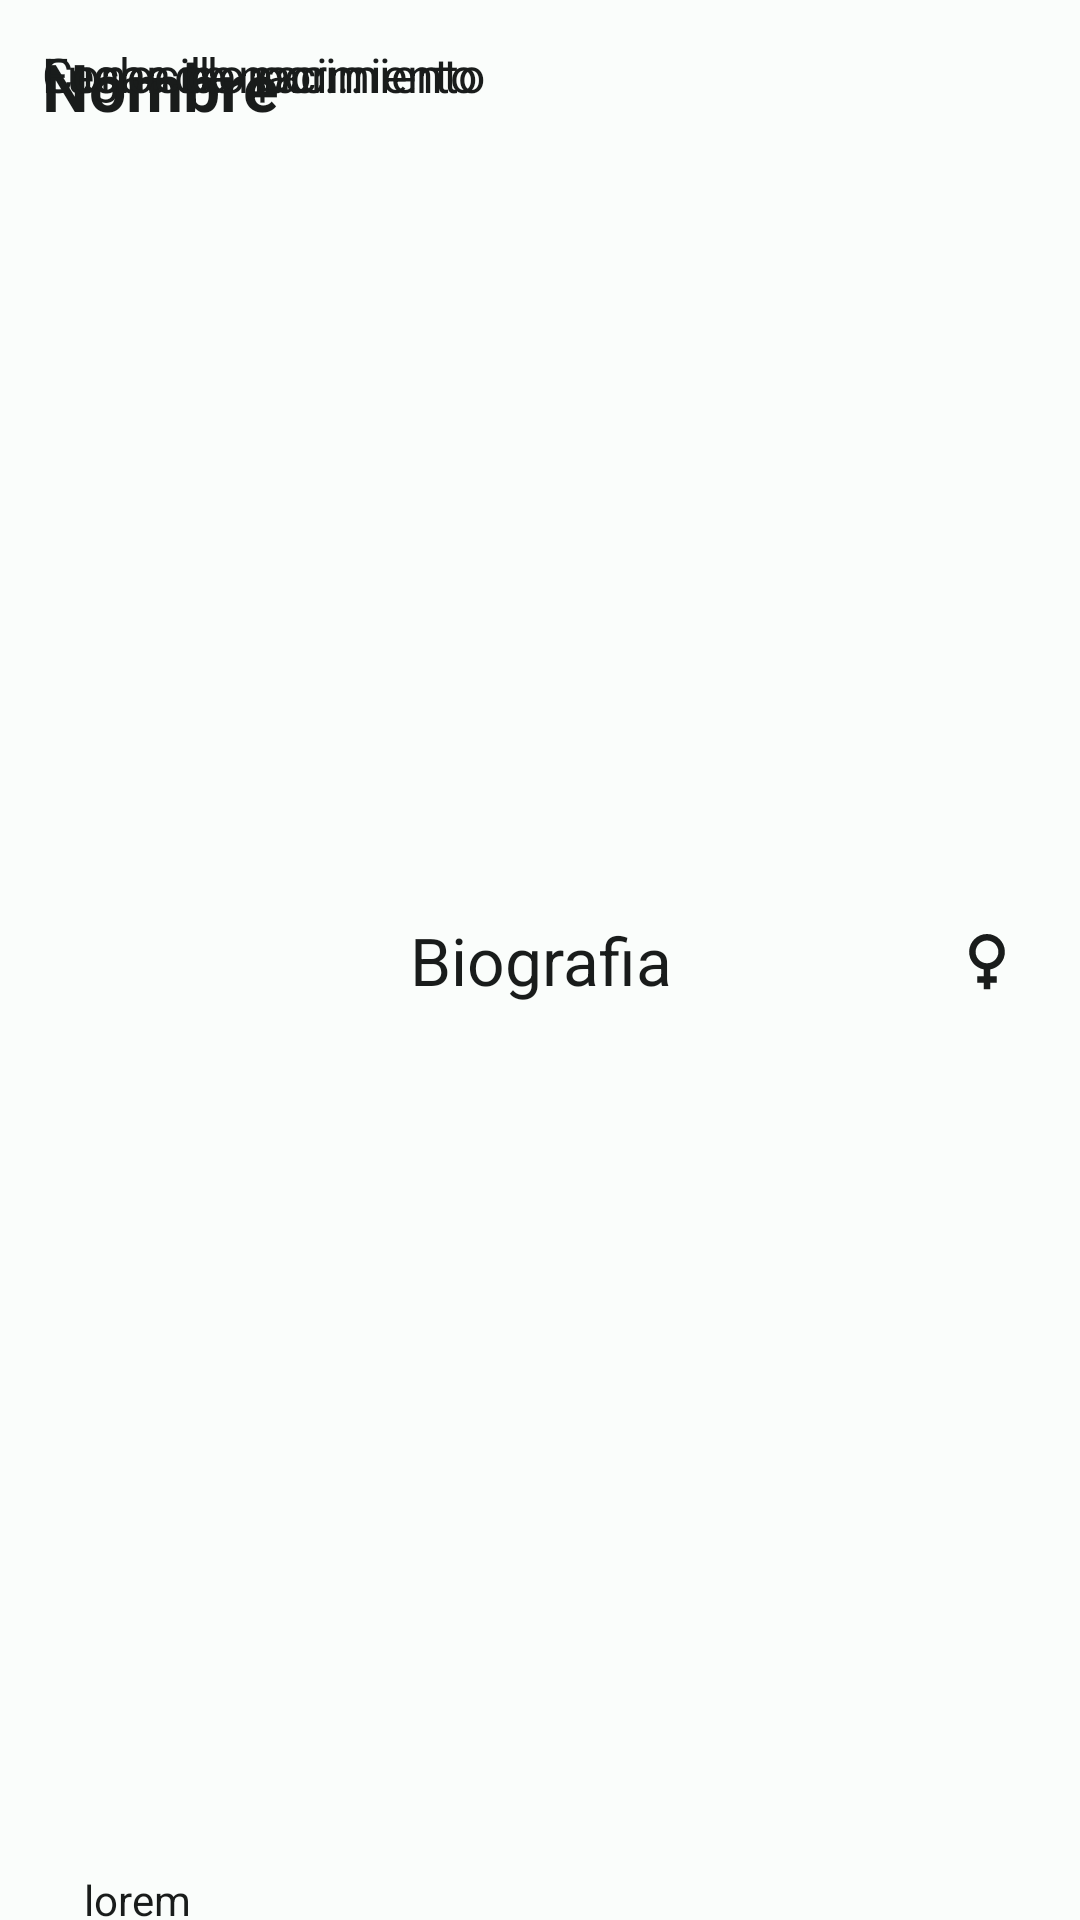

Icon bounding boxes for this 1080px x 1920px phone screenshot, format box(x1, y1, x2, y2):
female: box(969, 934, 1005, 990)
